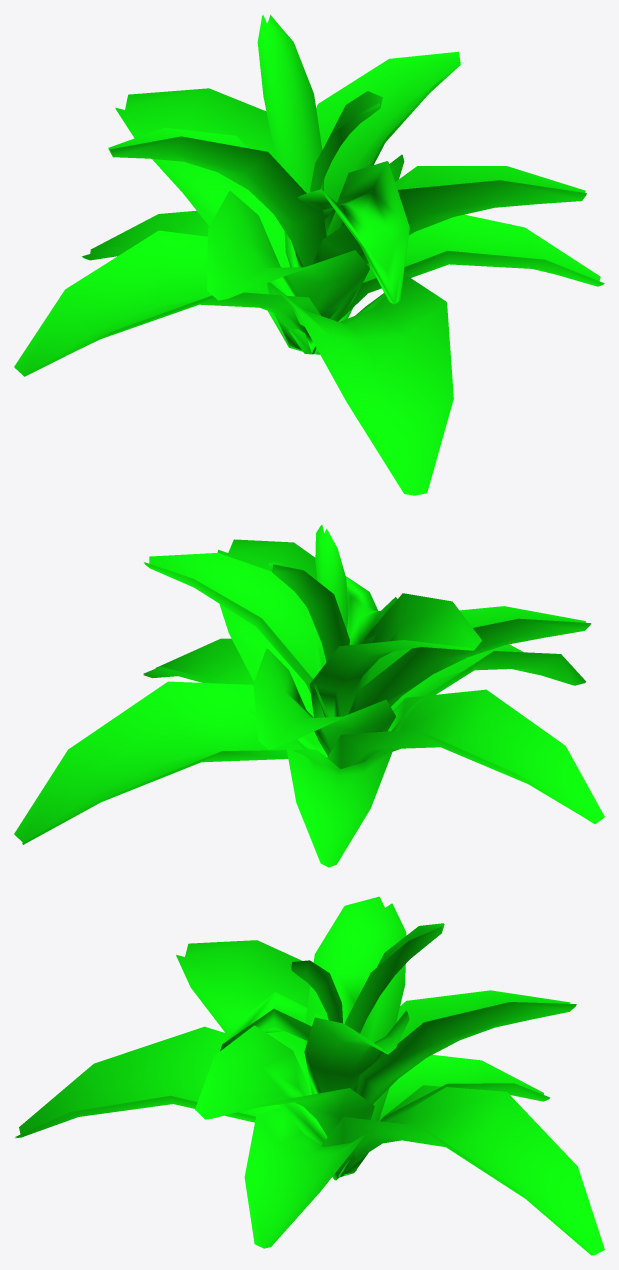
File: Plam02Small_2018.FBX
3 views of the same model, one above another, from view 1: azimuth 30°, elevation 25°; view 2: azimuth 150°, elevation 25°; view 3: azimuth 270°, elevation 25° (orthographic). The views are drawn at different scales.
Parts seen in each view (by area): view 1: Palm02Small_LOD0; view 2: Palm02Small_LOD0; view 3: Palm02Small_LOD0.
Boxes of the visible parts, bbox=[...] form: Palm02Small_LOD0: bbox=[14, 15, 604, 495]; Palm02Small_LOD0: bbox=[14, 525, 604, 867]; Palm02Small_LOD0: bbox=[15, 896, 604, 1255].
Size of what is drawn, in the model's own units: 23.41 by 12.19 by 25.16.
